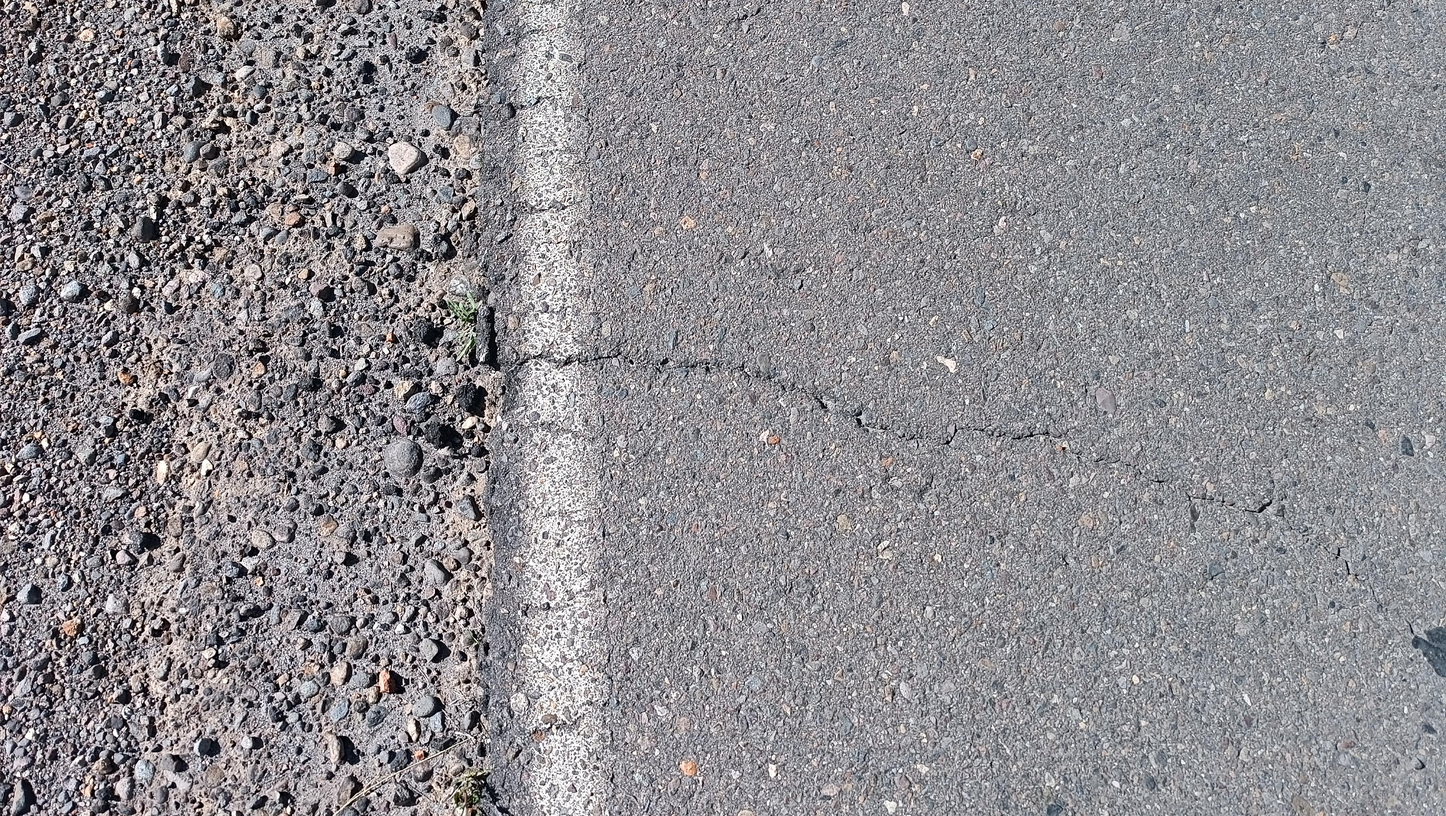GRIETA: (509, 350, 1172, 488), (1281, 511, 1359, 580), (1368, 584, 1416, 635), (1184, 490, 1274, 515)
